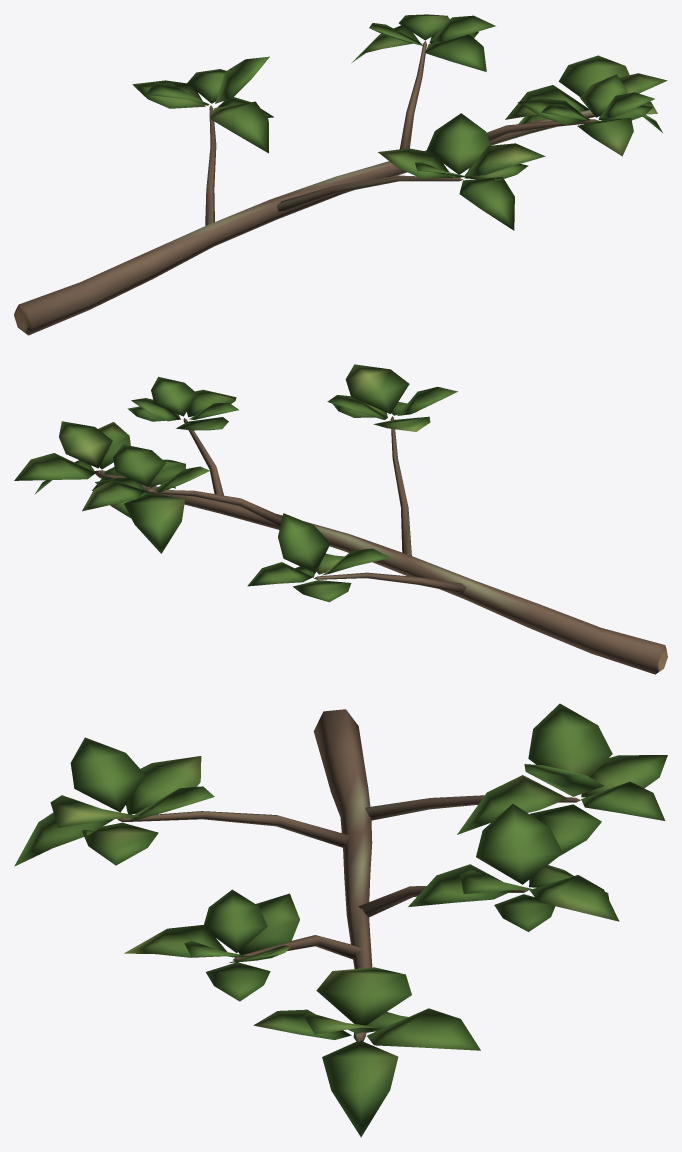
Rendered from limb.glb.
3 views of the same model, one above another, from view 1: azimuth 30°, elevation 25°; view 2: azimuth 150°, elevation 25°; view 3: azimuth 270°, elevation 25° (orthographic). The views are drawn at different scales.
Visible parts, largest first — view 1: limb; view 2: limb; view 3: limb.
Boxes of the visible parts, x1,y1,x2,y2 form: limb: [14, 14, 667, 335]; limb: [14, 364, 667, 674]; limb: [14, 703, 667, 1137].
Size of the model in its own units: 2.28 by 0.5298 by 1.43.
